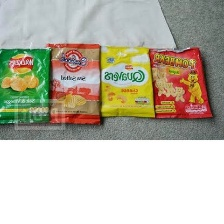snack: (144, 42, 218, 123), (42, 38, 107, 128), (95, 40, 160, 121), (0, 41, 55, 129)
